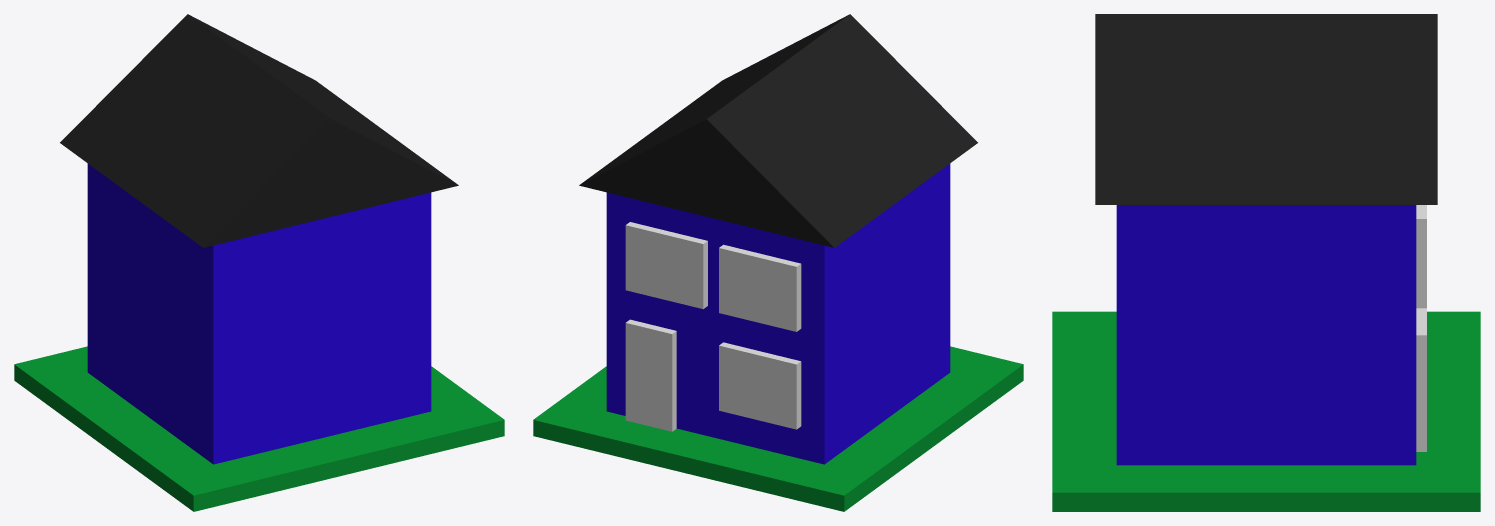
Rendered from house2.fbx.
3 views of the same model, side by side, from view 1: azimuth 30°, elevation 25°; view 2: azimuth 150°, elevation 25°; view 3: azimuth 270°, elevation 25° (orthographic). The views are drawn at different scales.
Parts seen in each view (by area): view 1: Cube, Cylinder, Cube.001; view 2: Cube, Cylinder, Cube.001, Cube.003, Cube.005, Cube.004, Cube.002; view 3: Cube, Cylinder, Cube.001, Cube.002, Cube.004.
Boxes of the visible parts, bbox=[...] form: Cube: bbox=[87, 163, 431, 464]; Cylinder: bbox=[60, 14, 458, 247]; Cube.001: bbox=[14, 346, 504, 511]; Cube: bbox=[606, 163, 950, 464]; Cylinder: bbox=[579, 14, 977, 247]; Cube.001: bbox=[533, 346, 1023, 511]; Cube.003: bbox=[719, 342, 801, 429]; Cube.005: bbox=[719, 244, 801, 331]; Cube.004: bbox=[625, 222, 707, 309]; Cube.002: bbox=[625, 319, 676, 431]; Cube: bbox=[1116, 205, 1416, 465]; Cylinder: bbox=[1095, 14, 1437, 204]; Cube.001: bbox=[1052, 311, 1480, 511]; Cube.002: bbox=[1416, 308, 1426, 451]; Cube.004: bbox=[1416, 205, 1426, 296].
Size of the model in its own units: 200 by 210 by 200.
